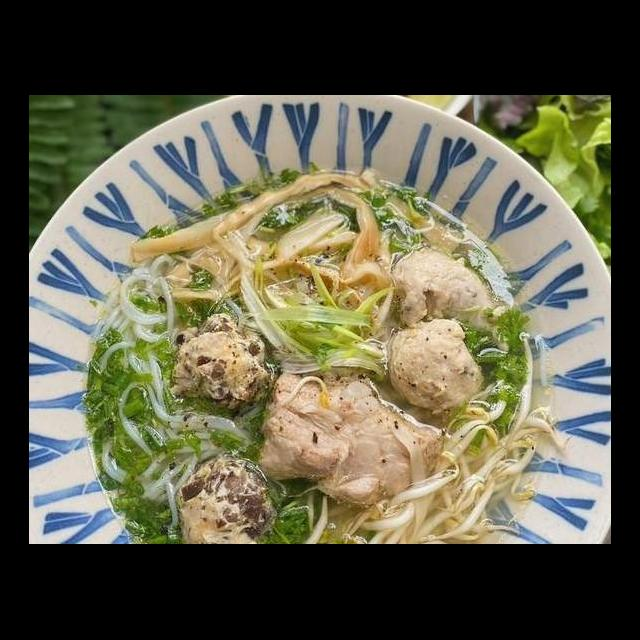bun: (77, 245, 256, 508)
vien moc: (169, 312, 288, 420), (169, 450, 285, 544)
